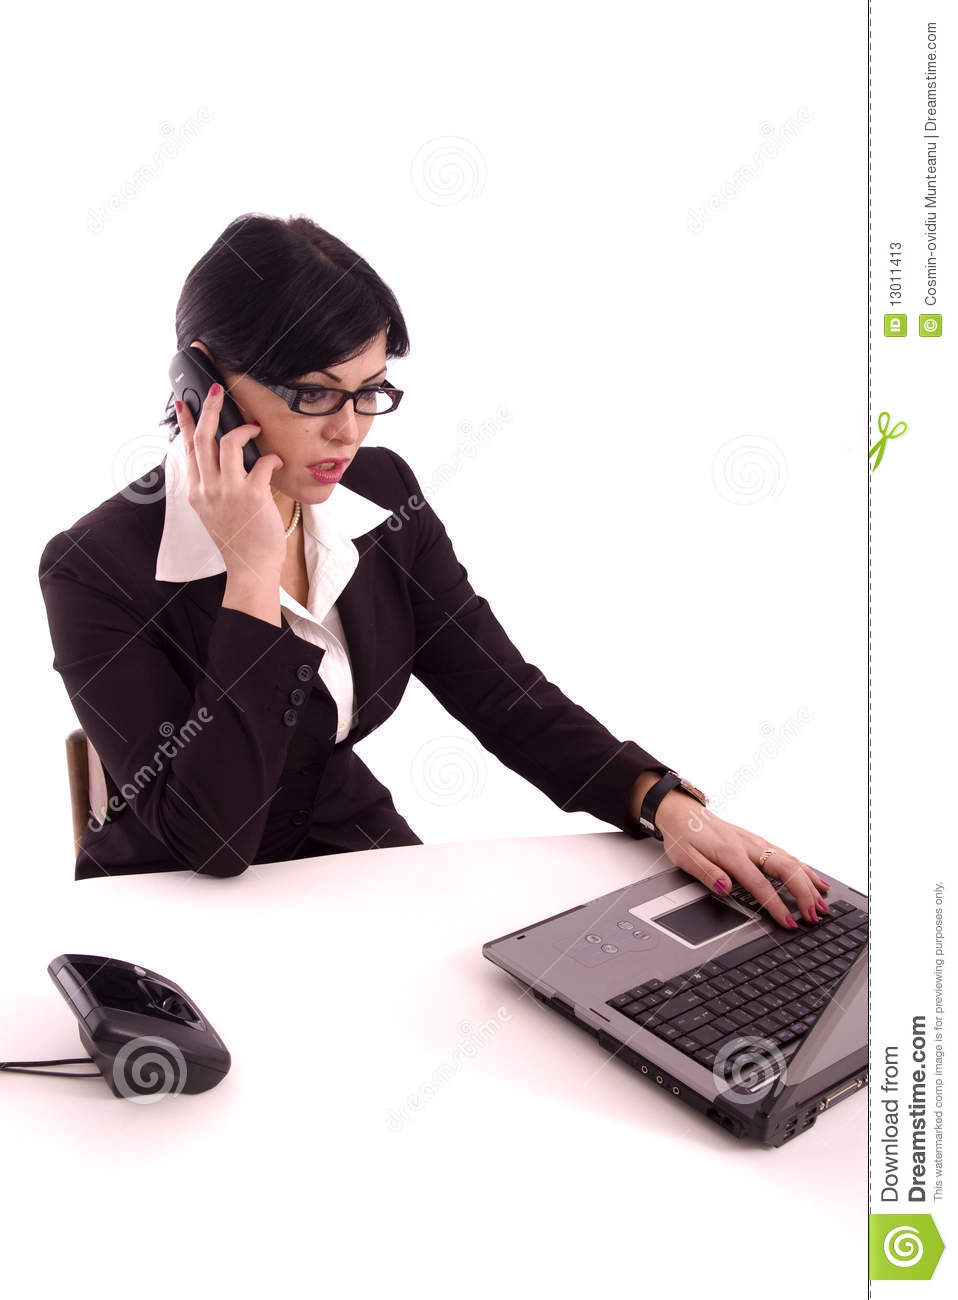phone: (173, 344, 272, 494)
talk: (172, 350, 387, 587)
